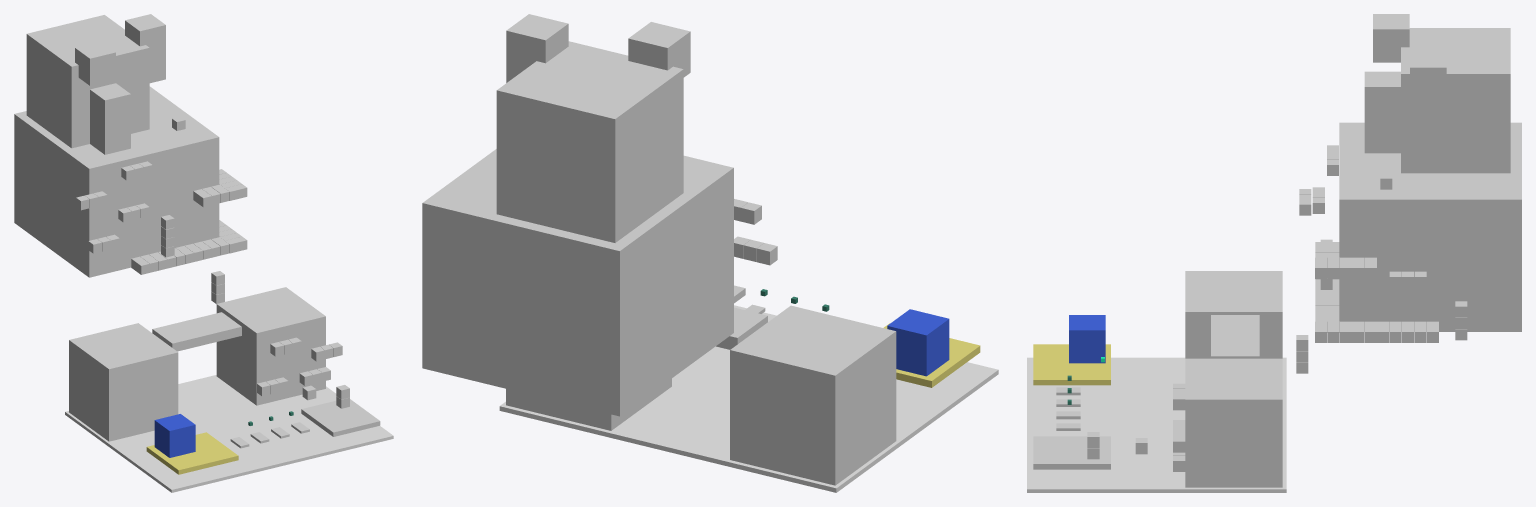
Rendered from fulltestingsceneTexture.glb.
The picture shows the model from 3 angles, left to right: view 1: azimuth 30°, elevation 25°; view 2: azimuth 150°, elevation 25°; view 3: azimuth 270°, elevation 25°; orthographic projection. The views are drawn at different scales.
Parts seen in each view (by area): view 1: Cube, ground, cube8.001, home.003, cube8, home.002, bridge, homeground, Cube.002, home.004, home, home.001; view 2: Cube, home.003, cube8.001, ground, home, home.004, home.001, cube8, homeground, bridge; view 3: Cube, ground, home.003, cube8, cube8.001, home.002, home.004, homeground, Cube.002, bridge, home, home.001.
Boxes of the visible parts, <box> form: Cube: <box>14,86,219,277</box>; ground: <box>65,375,393,492</box>; cube8.001: <box>69,323,178,441</box>; home.003: <box>26,15,149,148</box>; cube8: <box>216,287,325,405</box>; home.002: <box>90,83,130,154</box>; bridge: <box>152,312,241,351</box>; homeground: <box>146,432,238,474</box>; Cube.002: <box>301,399,380,436</box>; home.004: <box>125,14,165,83</box>; home: <box>154,414,195,457</box>; home.001: <box>75,41,115,85</box>; Cube: <box>422,149,733,416</box>; home.003: <box>496,41,683,242</box>; cube8.001: <box>730,305,896,485</box>; ground: <box>499,305,998,492</box>; home: <box>887,309,949,376</box>; home.004: <box>506,14,568,82</box>; home.001: <box>628,22,690,77</box>; cube8: <box>506,378,671,430</box>; homeground: <box>883,323,980,387</box>; bridge: <box>716,307,767,349</box>; Cube: <box>1339,122,1521,331</box>; ground: <box>1027,357,1286,492</box>; home.003: <box>1401,28,1510,173</box>; cube8: <box>1185,358,1282,487</box>; cube8.001: <box>1185,271,1282,358</box>; home.002: <box>1364,71,1400,153</box>; home.004: <box>1410,52,1446,133</box>; homeground: <box>1033,344,1110,385</box>; Cube.002: <box>1033,436,1110,469</box>; bridge: <box>1211,315,1259,358</box>; home: <box>1069,315,1105,363</box>; home.001: <box>1373,14,1409,62</box>.
Size of the model in its own units: 160 by 209 by 244.
